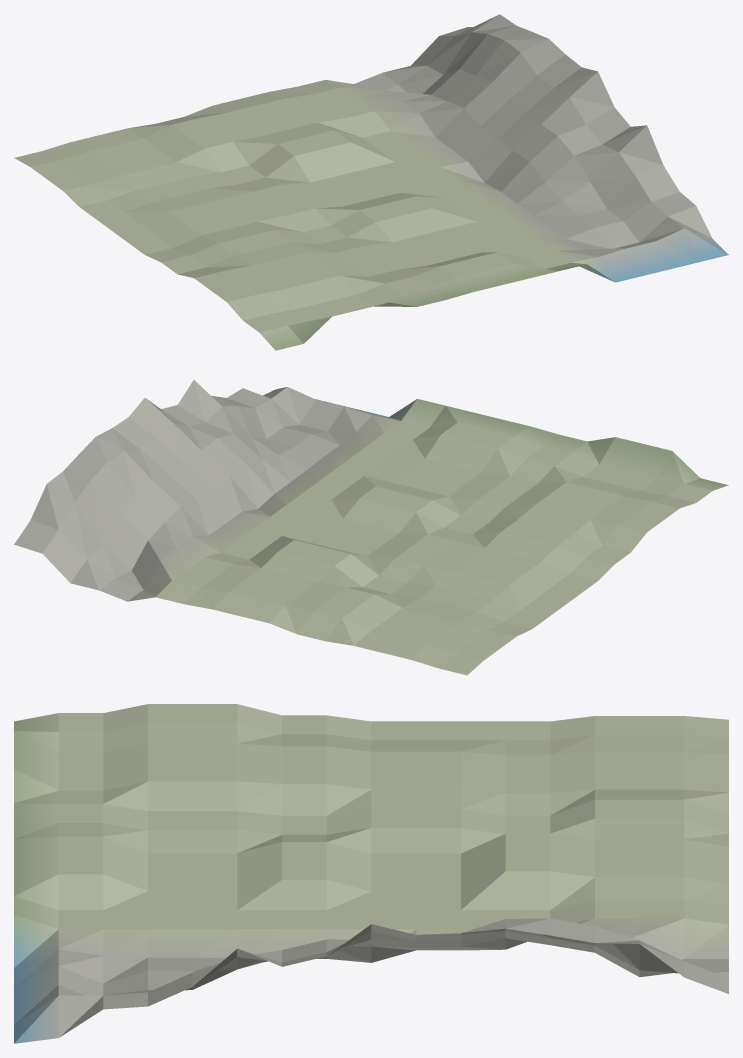
The picture shows the model from 3 angles, top to bottom: view 1: azimuth 30°, elevation 25°; view 2: azimuth 150°, elevation 25°; view 3: azimuth 270°, elevation 25°; orthographic projection. The views are drawn at different scales.
Bounding box in the file's own units: 32 × 5.92 × 32.
